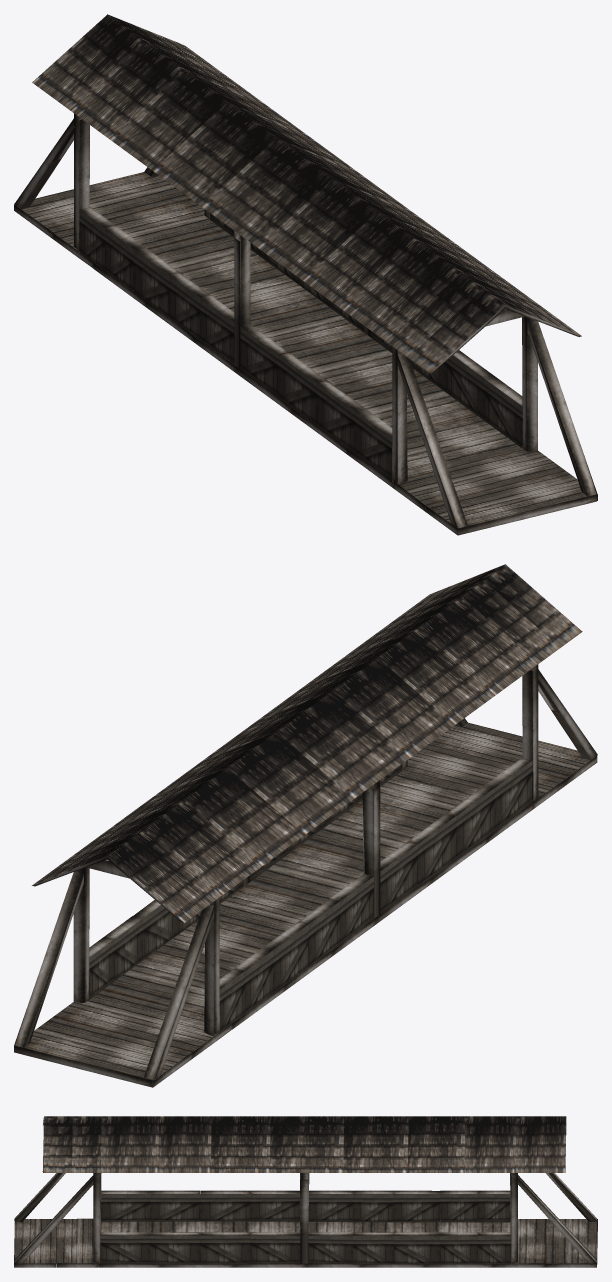
The model's file is bridge_new.fbx.
3 views of the same model, one above another, from view 1: azimuth 30°, elevation 25°; view 2: azimuth 150°, elevation 25°; view 3: azimuth 270°, elevation 25° (orthographic). The views are drawn at different scales.
Visible parts, largest first — view 1: Cube.003, Cube.001, Cube, Cube.002; view 2: Cube.003, Cube.001, Cube, Cube.002; view 3: Cube.003, Cube, Cube.001, Cube.002.
Boxes of the visible parts, <box> form: Cube.003: <box>32,14,581,373</box>; Cube.001: <box>14,172,597,535</box>; Cube: <box>80,207,522,480</box>; Cube.002: <box>14,113,597,527</box>; Cube.003: <box>32,564,582,922</box>; Cube.001: <box>14,722,597,1087</box>; Cube: <box>89,758,532,1031</box>; Cube.002: <box>14,664,597,1079</box>; Cube.003: <box>42,1116,566,1172</box>; Cube: <box>100,1173,510,1264</box>; Cube.001: <box>14,1218,597,1267</box>; Cube.002: <box>14,1169,597,1263</box>.
Bounding box in the file's own units: 325 × 401 × 1637.
